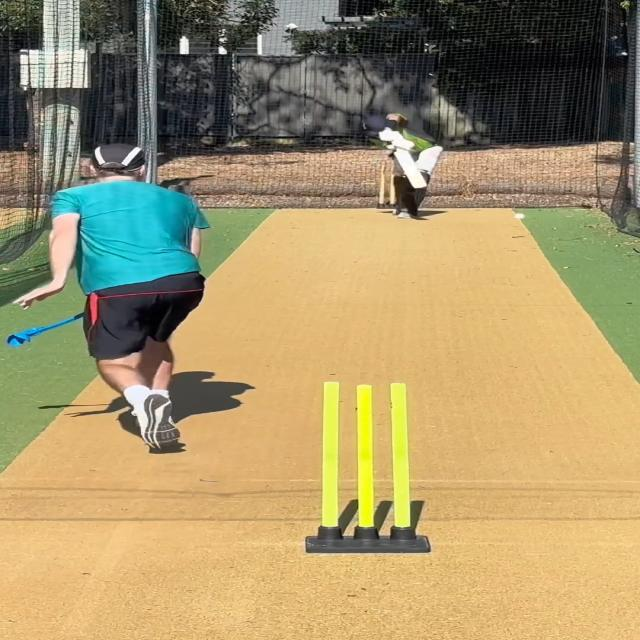ball: (511, 211, 528, 221)
stump: (307, 380, 434, 555)
